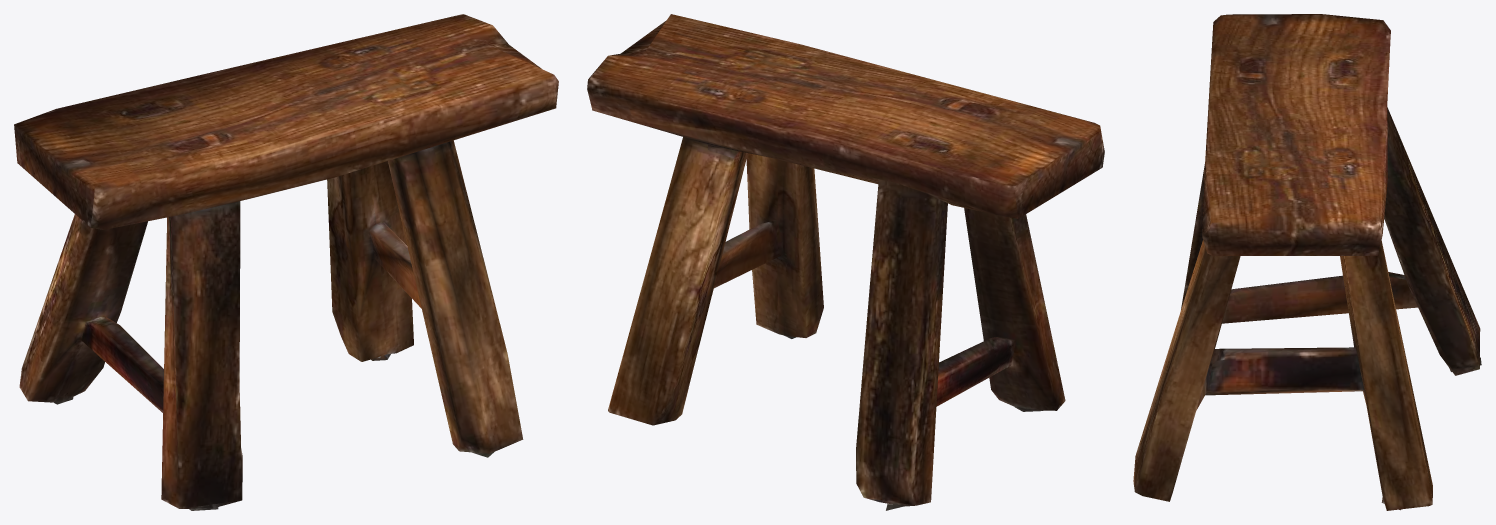
The model's file is p_stool.glb.
3 views of the same model, side by side, from view 1: azimuth 30°, elevation 25°; view 2: azimuth 150°, elevation 25°; view 3: azimuth 270°, elevation 25° (orthographic). The views are drawn at different scales.
Visible parts, largest first — view 1: wooden_stool_02; view 2: wooden_stool_02; view 3: wooden_stool_02.
Part boxes in pixels (x1,y1,x2,y2): wooden_stool_02: (14,14,558,510); wooden_stool_02: (587,14,1104,510); wooden_stool_02: (1133,14,1481,510).
Bounding box in the file's own units: 0.262 × 0.1805 × 0.1793.
1 material, 1 textured.
